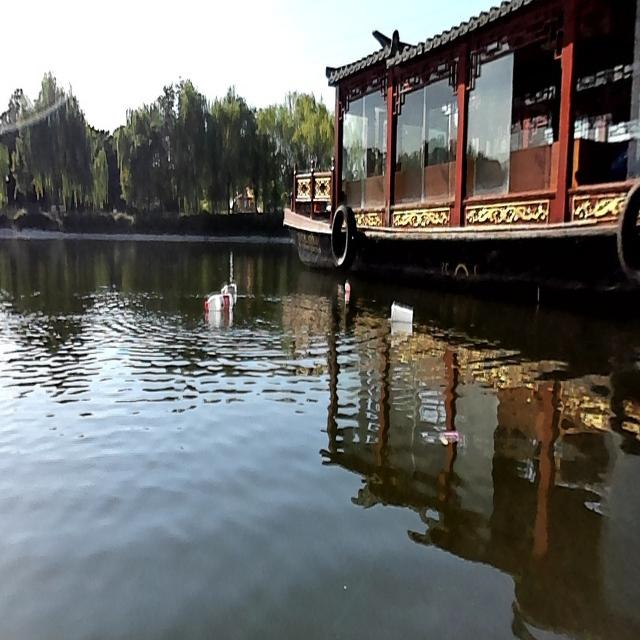bottle: (388, 301, 414, 322), (203, 292, 231, 311), (221, 281, 237, 294), (343, 281, 349, 292)
